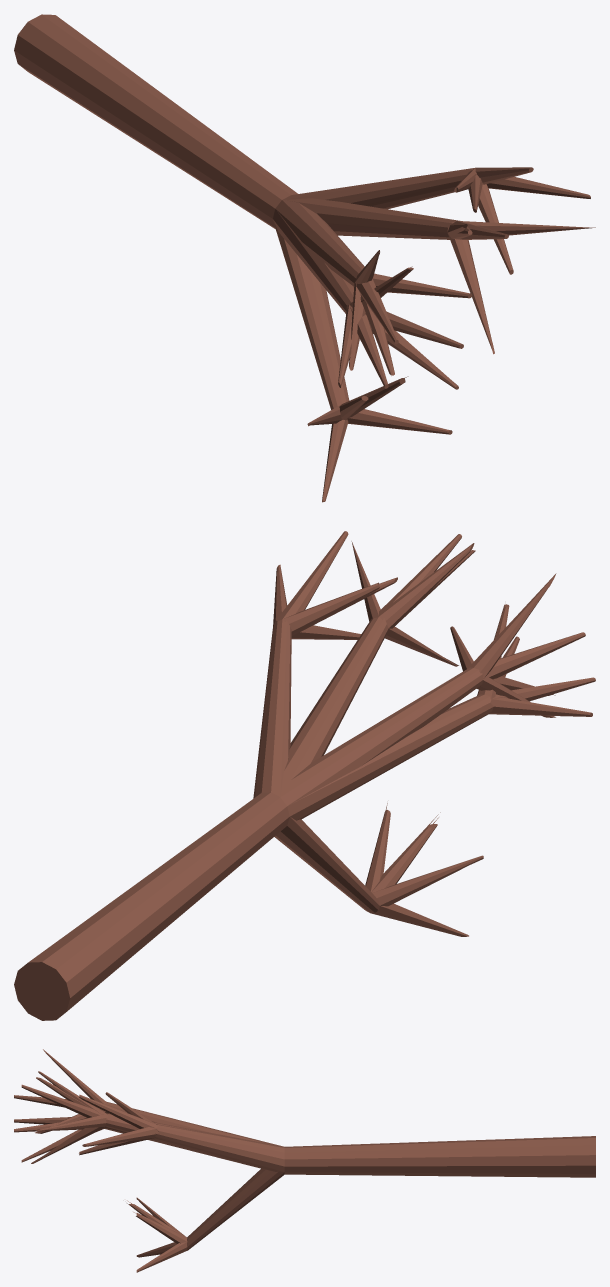
The model's file is tinker.obj.
The picture shows the model from 3 angles, top to bottom: view 1: azimuth 30°, elevation 25°; view 2: azimuth 150°, elevation 25°; view 3: azimuth 270°, elevation 25°; orthographic projection. The views are drawn at different scales.
Parts seen in each view (by area): view 1: obj_0; view 2: obj_0; view 3: obj_0.
Part boxes in pixels (x1=…): obj_0: x1=14, y1=14, x2=595, y2=502; obj_0: x1=14, y1=531, x2=595, y2=1020; obj_0: x1=14, y1=1049, x2=595, y2=1272.
Size of the model in its own units: 15.53 by 17.38 by 42.82.
